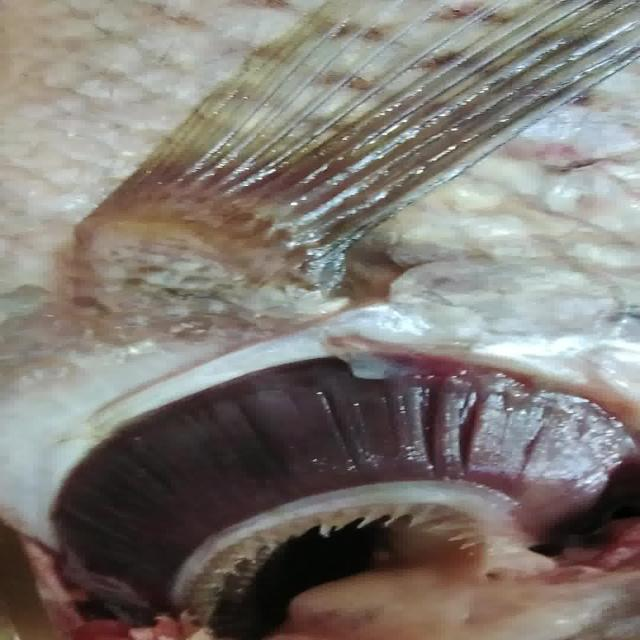Non-Fresh: (49, 350, 626, 603)
